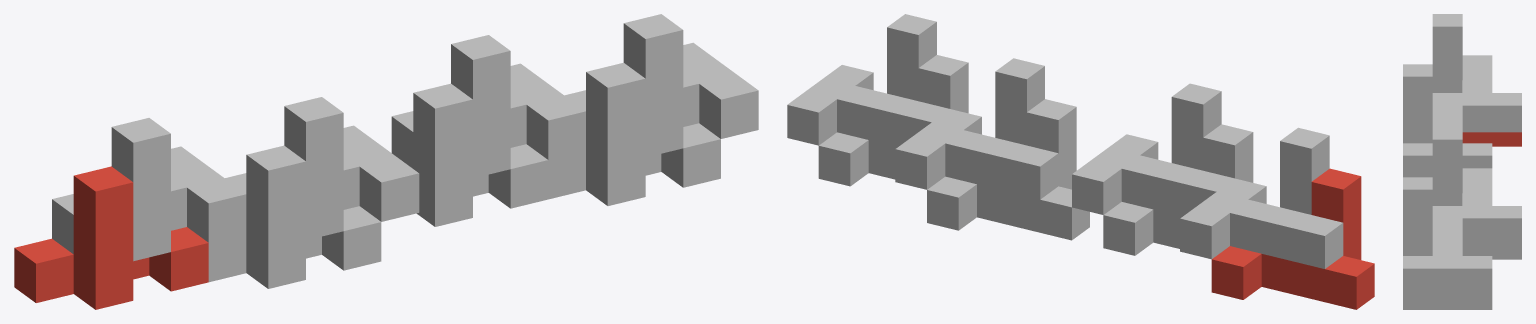
File: tiling.obj
The picture shows the model from 3 angles, left to right: view 1: azimuth 30°, elevation 25°; view 2: azimuth 150°, elevation 25°; view 3: azimuth 270°, elevation 25°; orthographic projection. The views are drawn at different scales.
Parts seen in each view (by area): view 1: copy_1_domain_1, copy_1_domain_3, copy_1_domain_2, copy_1_domain_6, copy_1_domain_7, copy_1_domain_8, copy_1_domain_4, copy_1_domain_5; view 2: copy_1_domain_3, copy_1_domain_7, copy_1_domain_4, copy_1_domain_8, copy_1_domain_1, copy_1_domain_5, copy_1_domain_6, copy_1_domain_2; view 3: copy_1_domain_8, copy_1_domain_3, copy_1_domain_7, copy_1_domain_4, copy_1_domain_6, copy_1_domain_1, copy_1_domain_5.
Boxes of the visible parts, x1,y1,x2,y2 form: copy_1_domain_1: [14, 166, 208, 309]; copy_1_domain_3: [52, 118, 246, 261]; copy_1_domain_2: [208, 145, 381, 288]; copy_1_domain_6: [548, 62, 720, 205]; copy_1_domain_7: [391, 35, 585, 178]; copy_1_domain_8: [564, 14, 758, 157]; copy_1_domain_4: [225, 97, 419, 240]; copy_1_domain_5: [413, 83, 548, 226]; copy_1_domain_3: [1180, 127, 1343, 268]; copy_1_domain_7: [895, 58, 1058, 199]; copy_1_domain_4: [1072, 83, 1234, 216]; copy_1_domain_8: [787, 14, 949, 146]; copy_1_domain_1: [1211, 168, 1374, 309]; copy_1_domain_5: [927, 99, 1089, 240]; copy_1_domain_6: [818, 55, 968, 186]; copy_1_domain_2: [1103, 124, 1253, 255]; copy_1_domain_8: [1403, 177, 1492, 295]; copy_1_domain_3: [1432, 14, 1521, 132]; copy_1_domain_7: [1432, 127, 1521, 245]; copy_1_domain_4: [1403, 64, 1492, 177]; copy_1_domain_6: [1403, 295, 1492, 309]; copy_1_domain_1: [1462, 132, 1521, 146]; copy_1_domain_5: [1462, 245, 1521, 259].
Size of the model in its own units: 18 by 4 by 4.
